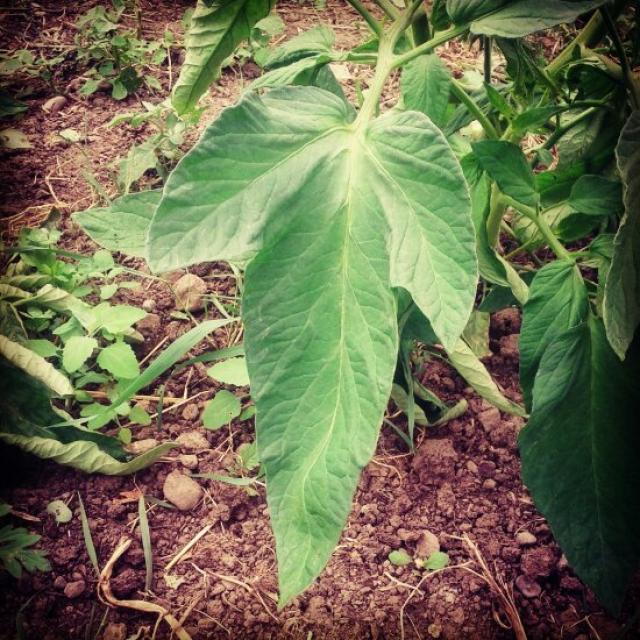Healthy Leaf: (154, 76, 480, 614), (518, 321, 640, 640), (518, 260, 588, 418), (468, 136, 540, 208)
